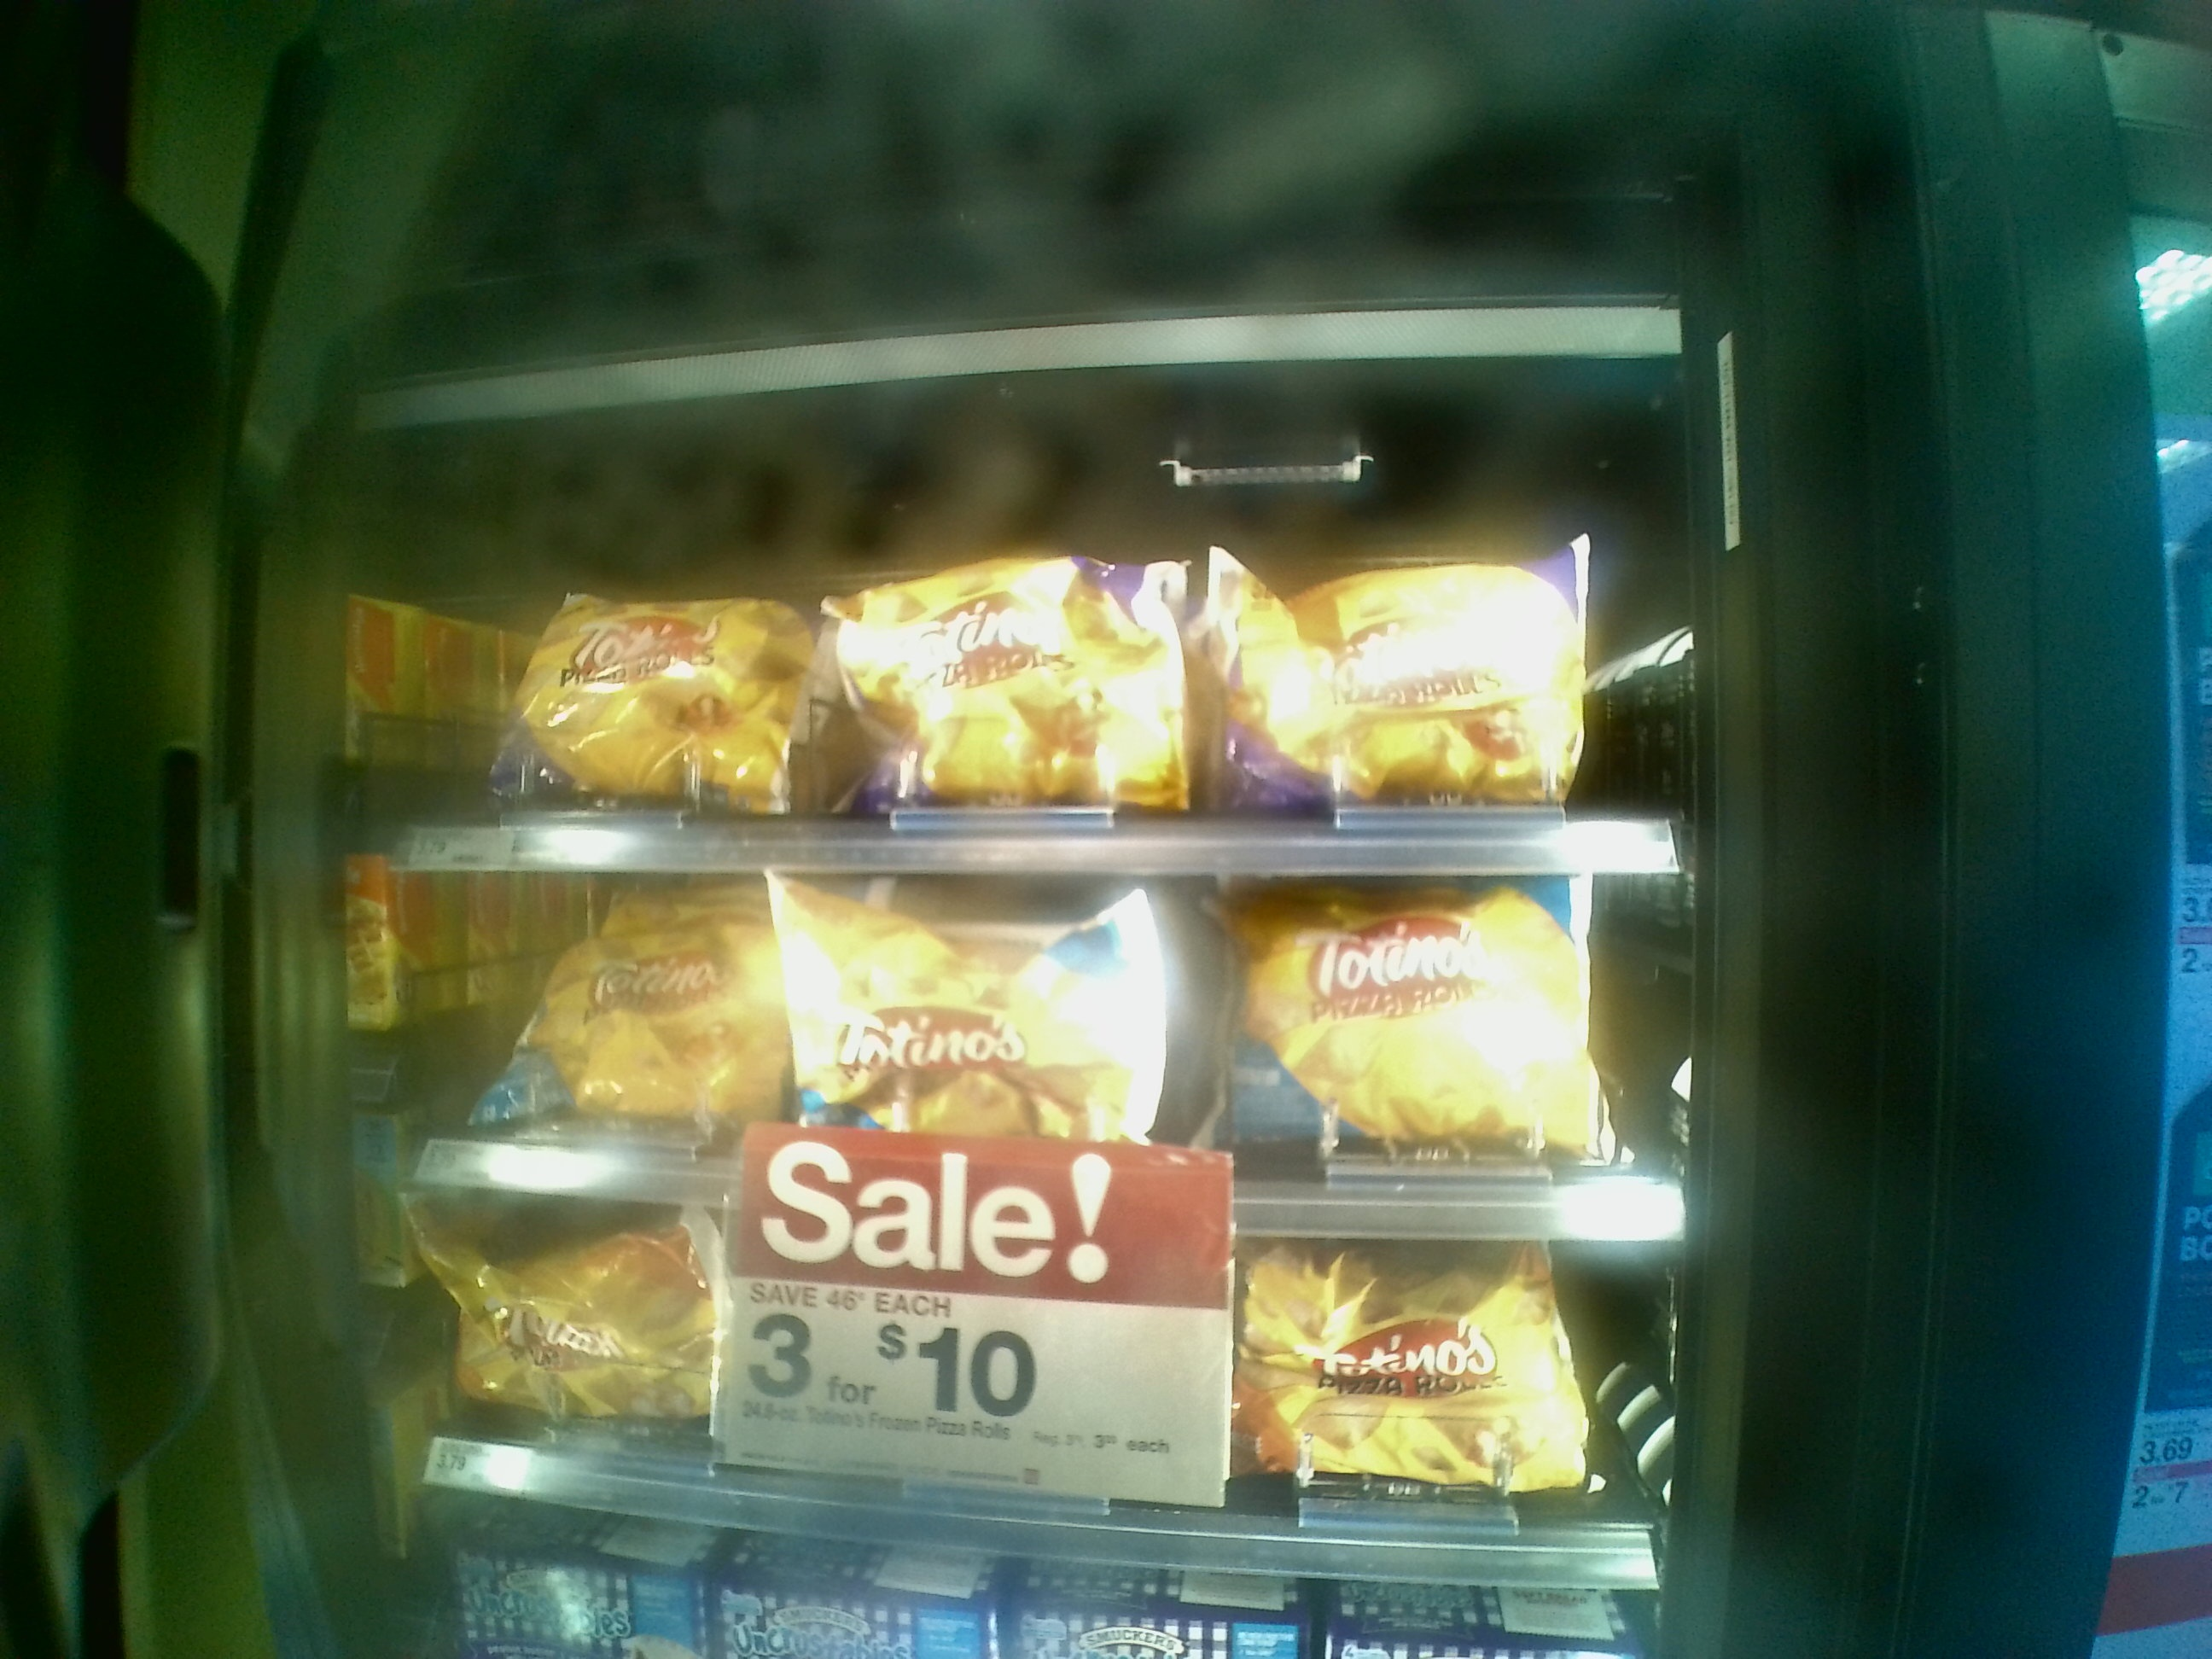shelf: (402, 1169, 1639, 1582), (456, 479, 1667, 878), (415, 871, 1667, 1236)
